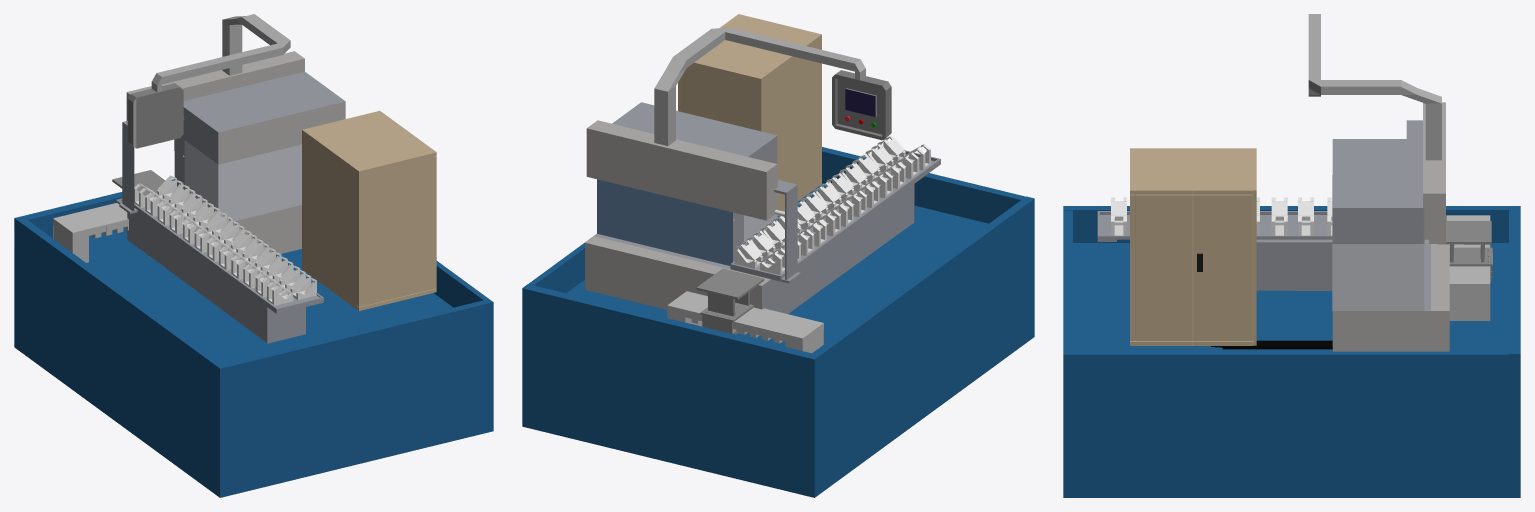
Rendered from Ingotcutter.fbx.
3 renders of one model, left to right at view 1: azimuth 30°, elevation 25°; view 2: azimuth 150°, elevation 25°; view 3: azimuth 270°, elevation 25°, orthographic. The views are drawn at different scales.
Visible parts, largest first — view 1: base, 큐브.001, 큐브.002, x톱s니, 실린더.004, 큐브, 실린더.003; view 2: base, 큐브.001, 큐브.002, x톱s니, 실린더.004, 큐브, 실린더.003; view 3: base, 큐브.001, 큐브.002, 실린더.004, 큐브, x톱s니, 실린더.003, 실린더.
Part boxes in pixels (box(x1,y1,x2,y2)): base: box(14, 179, 493, 497); 큐브.001: box(119, 51, 345, 343); 큐브.002: box(302, 110, 436, 310); x톱s니: box(134, 175, 316, 305); 실린더.004: box(127, 14, 290, 148); 큐브: box(53, 203, 128, 262); 실린더.003: box(112, 170, 165, 203); base: box(522, 147, 1034, 497); 큐브.001: box(585, 102, 940, 313); 큐브.002: box(678, 14, 821, 215); x톱s니: box(735, 135, 930, 274); 실린더.004: box(654, 27, 891, 145); 큐브: box(667, 291, 823, 353); 실린더.003: box(696, 268, 764, 334); base: box(1063, 206, 1520, 497); 큐브.001: box(1097, 102, 1449, 351); 큐브.002: box(1130, 148, 1256, 345); 실린더.004: box(1308, 14, 1441, 160); 큐브: box(1446, 215, 1490, 320); x톱s니: box(1111, 197, 1332, 235); 실린더.003: box(1437, 221, 1492, 281); 실린더: box(1211, 340, 1332, 349).
Size of the model in its own units: 771 by 882 by 1004.
